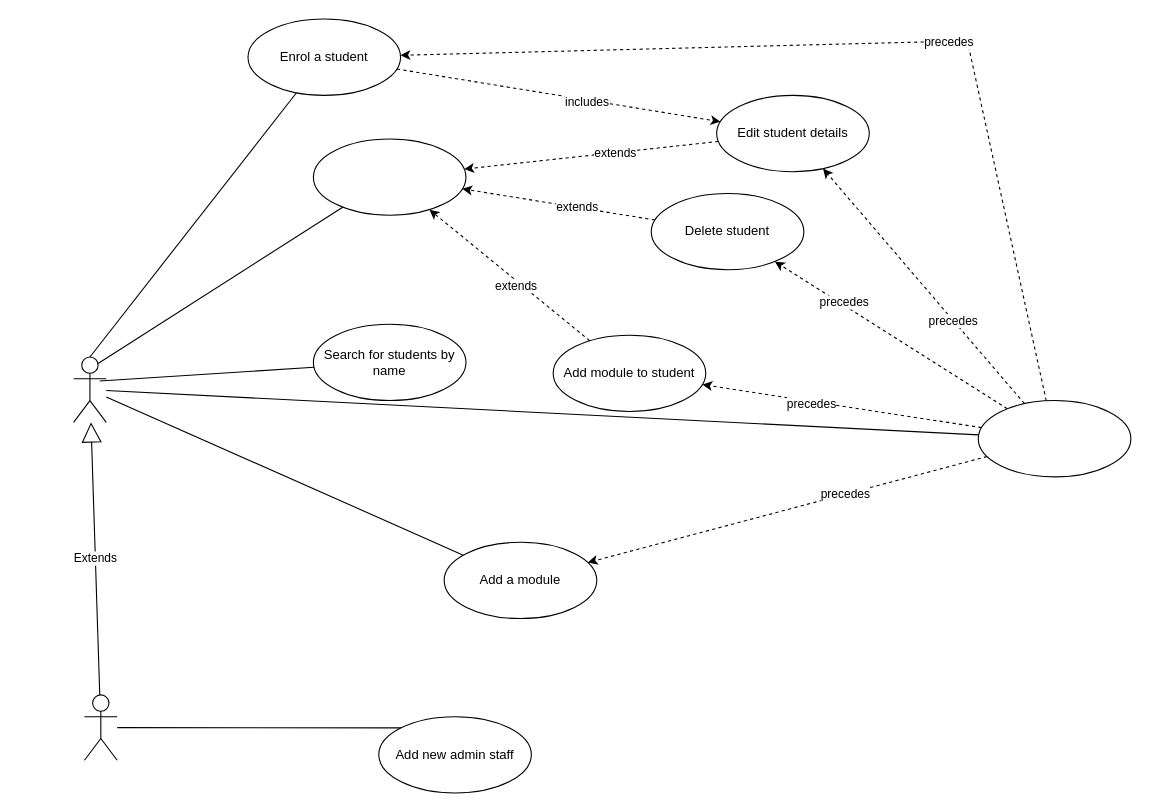
Some shapes in this 1151 by 812 pixel diagram are drawn without their labels. Here are the shapes that lost their labels. From the top down, the box of each, then its label:
(312, 138, 466, 215): Search for student by ID
(72, 356, 106, 422): University admin staff
(977, 399, 1131, 477): Login
(83, 694, 117, 760): University senior admin staff
